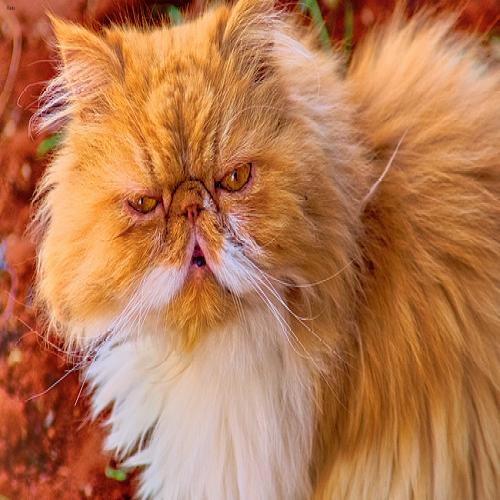persian: (28, 1, 351, 387)
